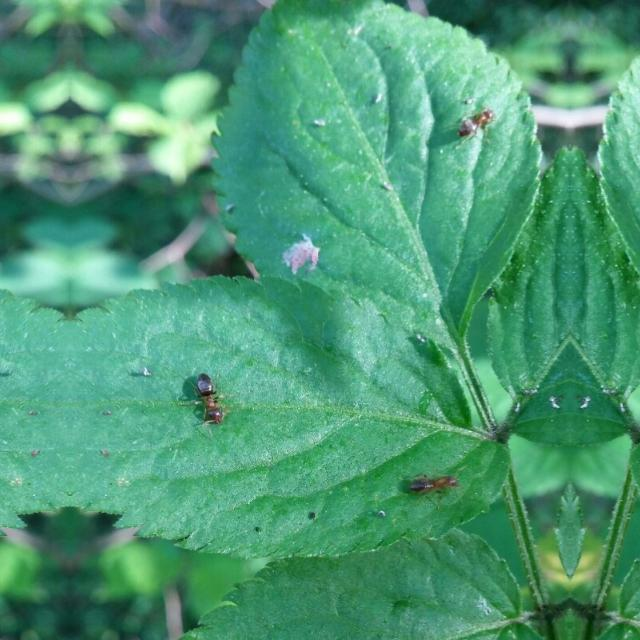Lasius: (416, 462, 476, 511), (184, 365, 226, 427), (457, 98, 501, 144)
